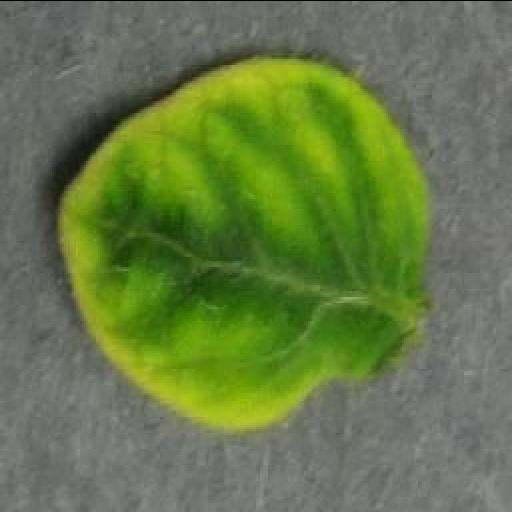disease_tomato: (53, 54, 439, 432)
